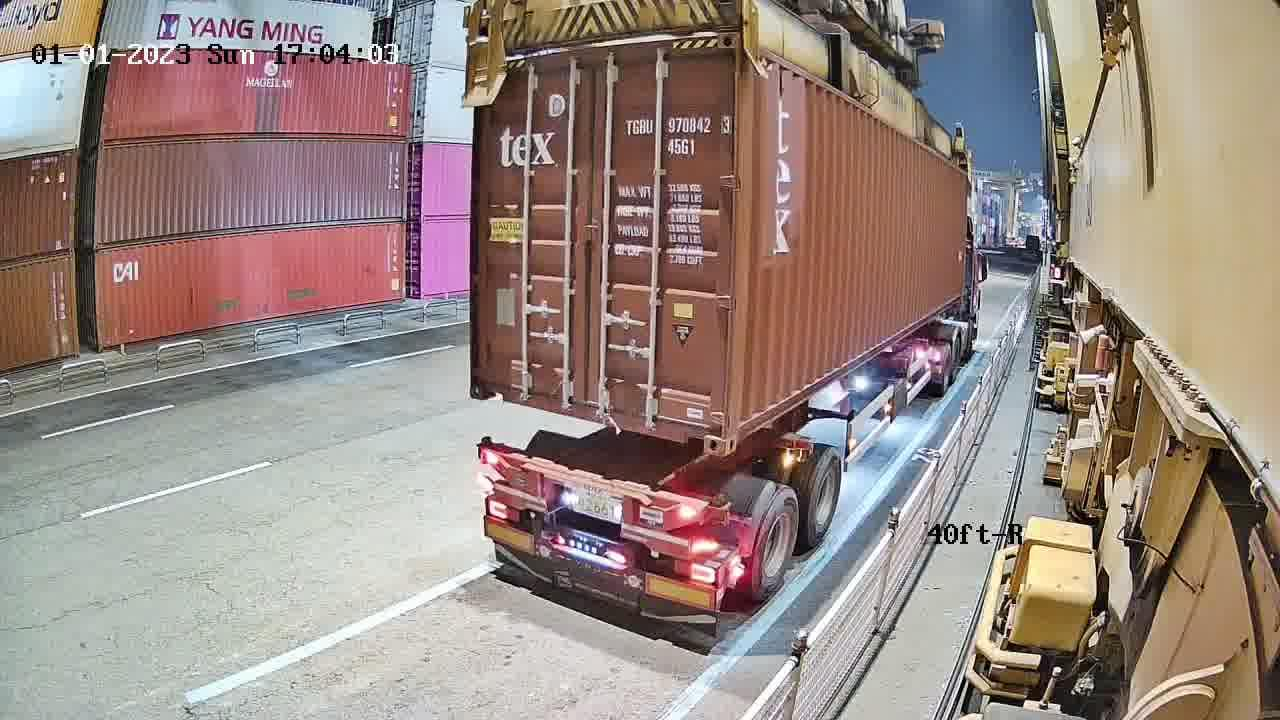Chassis: (475, 447, 709, 527)
Cone: (707, 488, 731, 524), (476, 432, 499, 463)
Hole_L: (725, 390, 756, 461), (467, 358, 512, 405)
Hole_R: (683, 393, 727, 461)
Tire: (754, 488, 801, 592), (806, 454, 842, 541)
